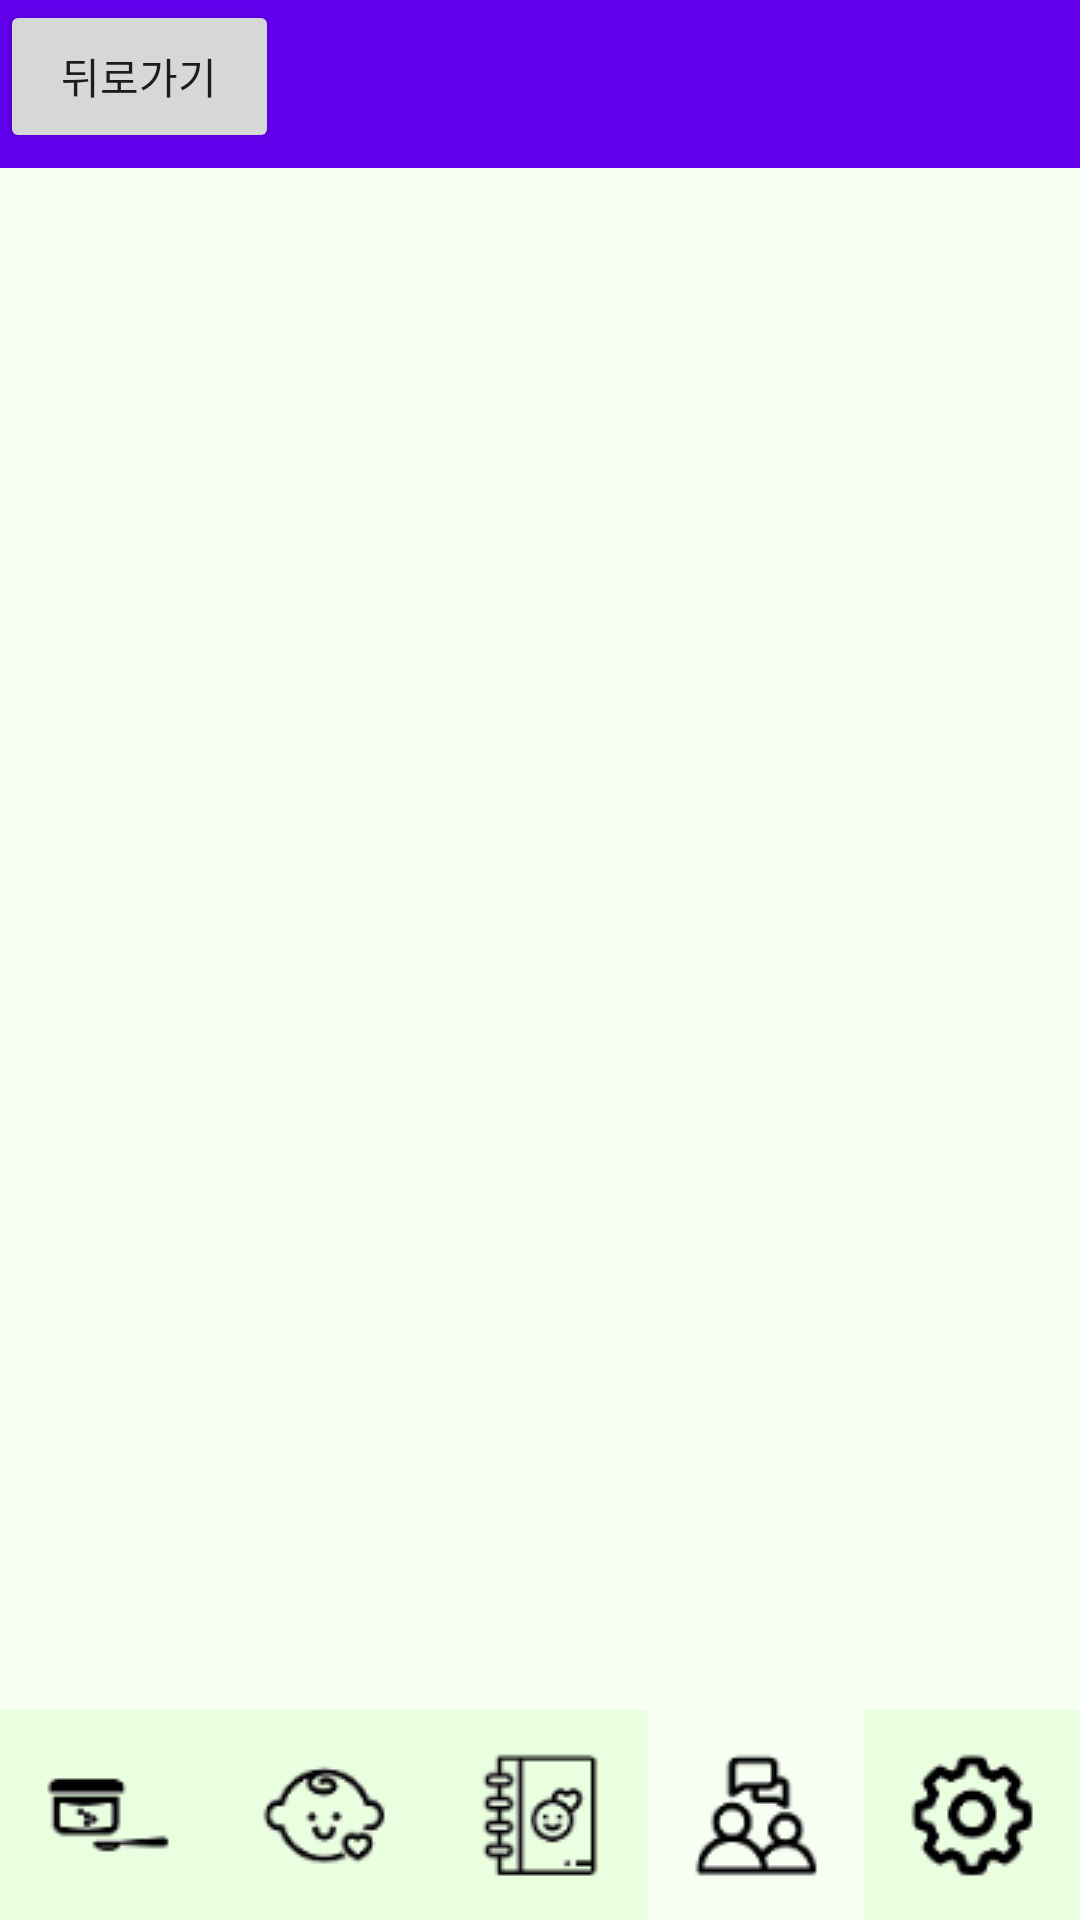

Icon bounding boxes for this 1080px x 1920px phone screenshot, format (x1, y1, x2, y2):
baby: (263, 1766, 385, 1864)
community: (695, 1755, 817, 1876)
diary: (483, 1754, 598, 1876)
setting: (911, 1754, 1033, 1876)
